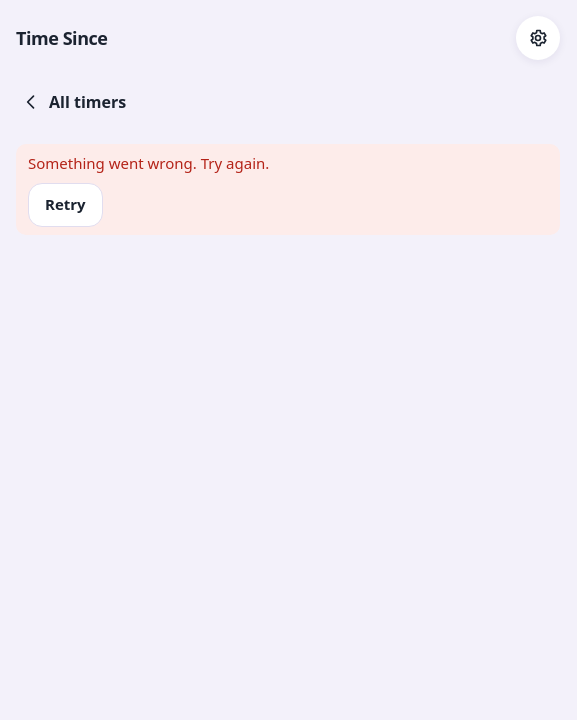
Scenario: TimerDetail › shows an inline retry when the fetch fails
Expected: the message "Something went wrong. Try again. Retry" is shown, 16,144 -> 560,234
Click the button "Retry" at (65, 204), box 28,182 -> 103,226
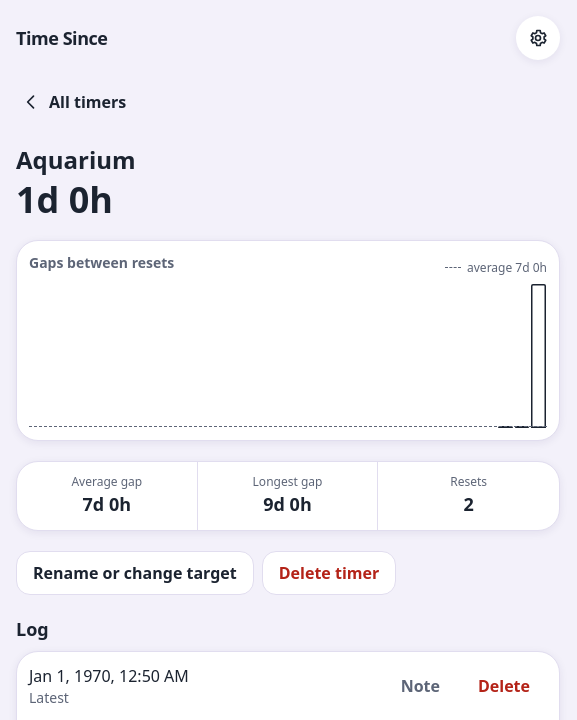
Expected: the number of list items with test id "log-entry" is 3
